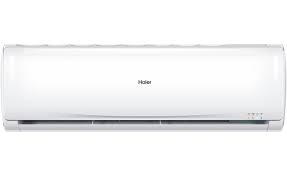ac: (3, 42, 287, 137)
